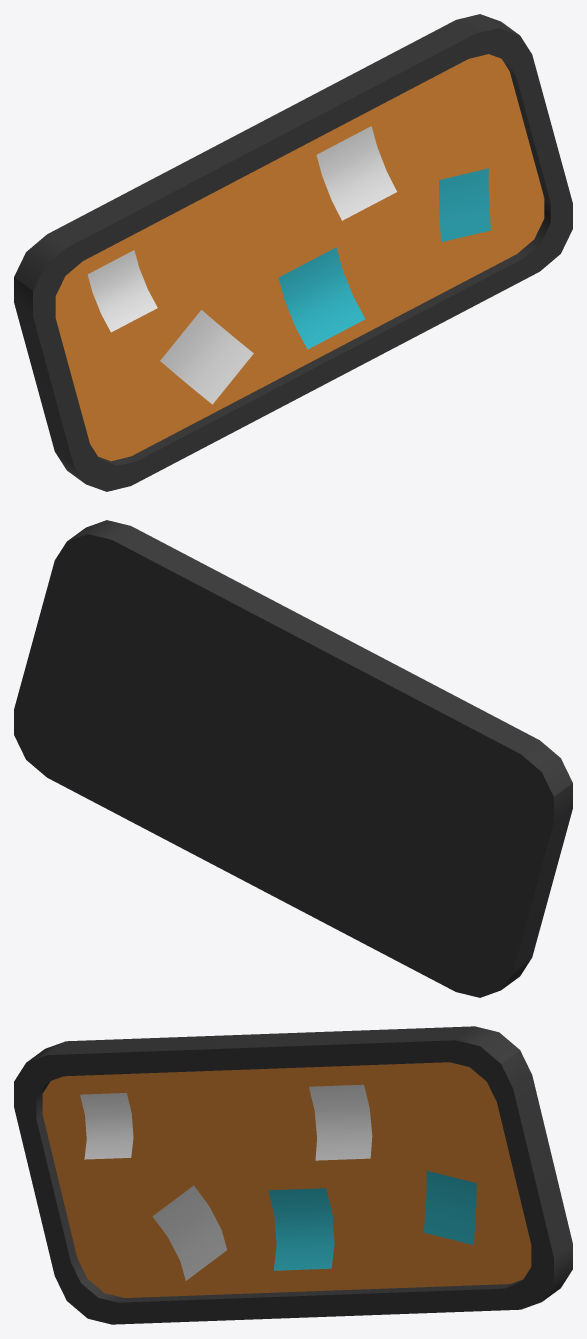
The model's file is pictures.fbx.
3 views of the same model, one above another, from view 1: azimuth 30°, elevation 25°; view 2: azimuth 150°, elevation 25°; view 3: azimuth 330°, elevation 25° (orthographic).
Visible parts, largest first — view 1: picture_2_geo; view 2: picture_2_geo; view 3: picture_2_geo.
Boxes of the visible parts, x1,y1,x2,y2 form: picture_2_geo: (14,14,572,491); picture_2_geo: (14,520,572,997); picture_2_geo: (14,1026,572,1324).
Size of the model in its own units: 9.77 by 6.37 by 0.8298.
1 material, 1 textured.
